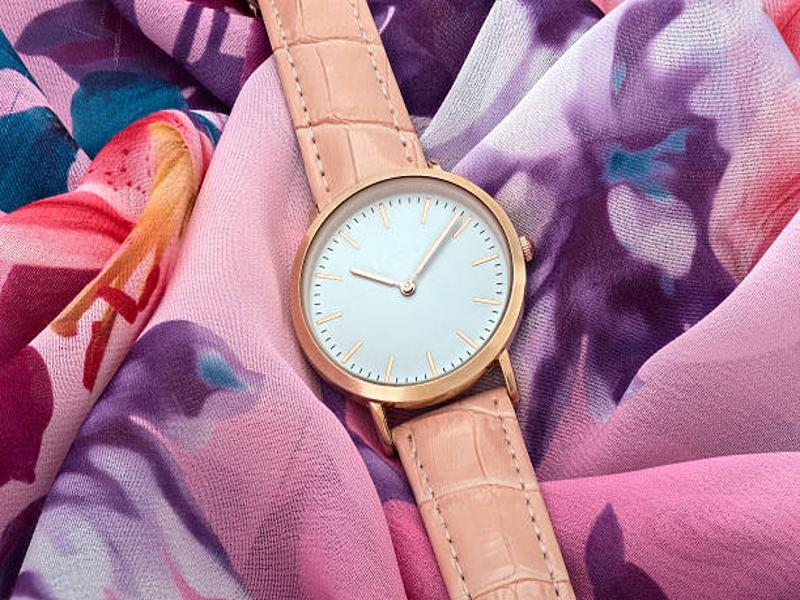watch: (251, 1, 577, 596)
